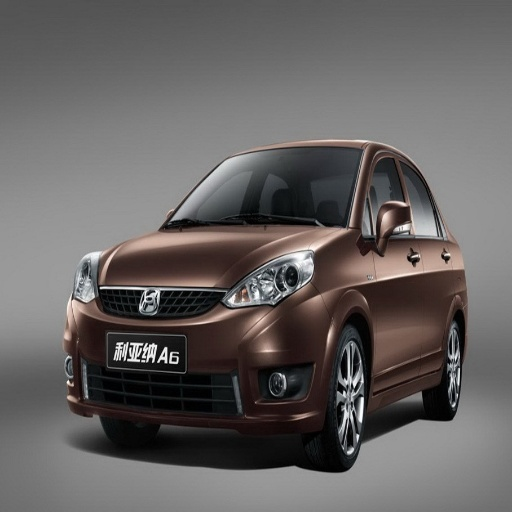front_bumper: (69, 283, 338, 434)
front_glass: (161, 148, 362, 230)
front_left_door: (363, 149, 421, 373)
